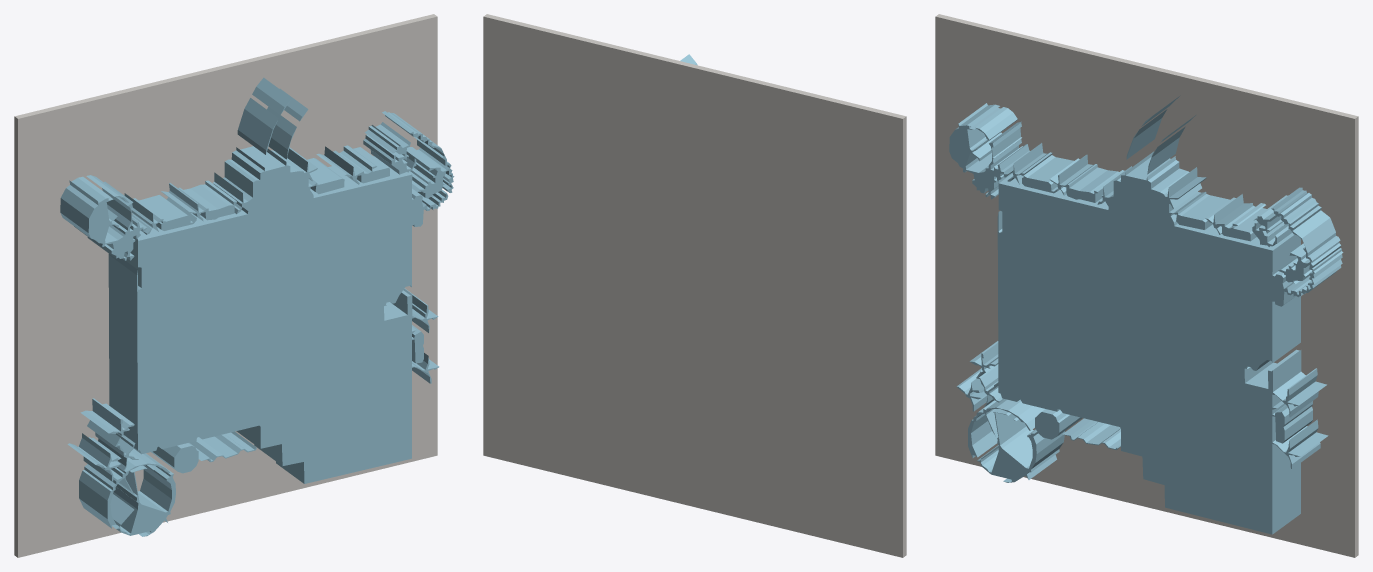
3 renders of one model, left to right at view 1: azimuth 30°, elevation 25°; view 2: azimuth 150°, elevation 25°; view 3: azimuth 330°, elevation 25°, orthographic.
Visible parts, largest first — view 1: world; view 2: world; view 3: world.
Boxes of the visible parts, left/top/right/bottom form: world: left=14, top=14, right=454, bottom=557; world: left=483, top=14, right=906, bottom=557; world: left=935, top=14, right=1358, bottom=557.
Size of the model in its own units: 10.23 by 10.23 by 1.35.
